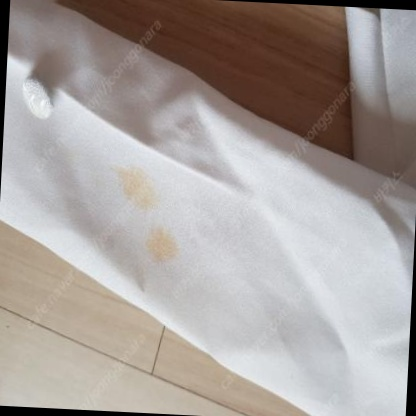kimchi: (109, 161, 156, 215), (145, 231, 178, 269)
